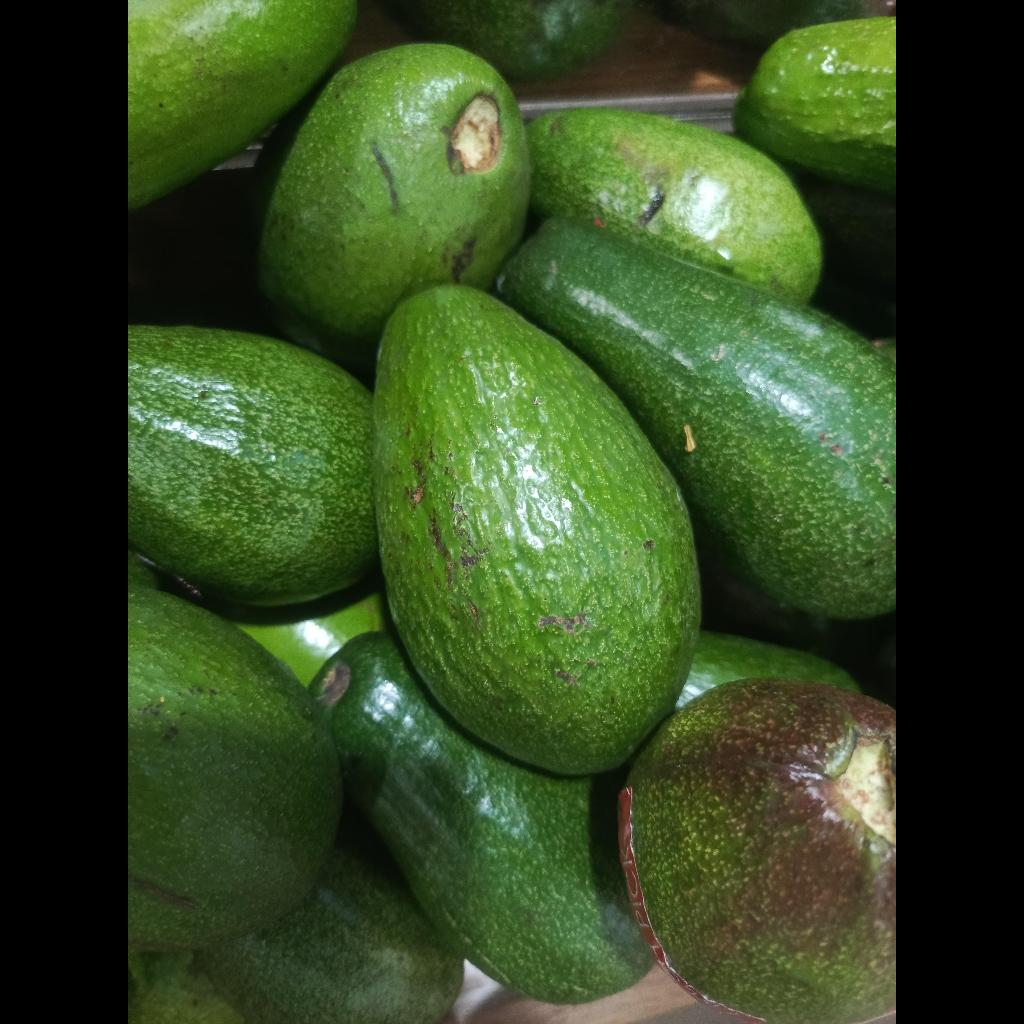healthy: (374, 285, 699, 774), (502, 221, 896, 618), (309, 633, 652, 1003), (619, 678, 896, 1024), (128, 588, 342, 951), (128, 325, 378, 605), (527, 107, 821, 303), (128, 0, 356, 210), (734, 17, 896, 192)
stem end rot: (255, 43, 530, 369)
